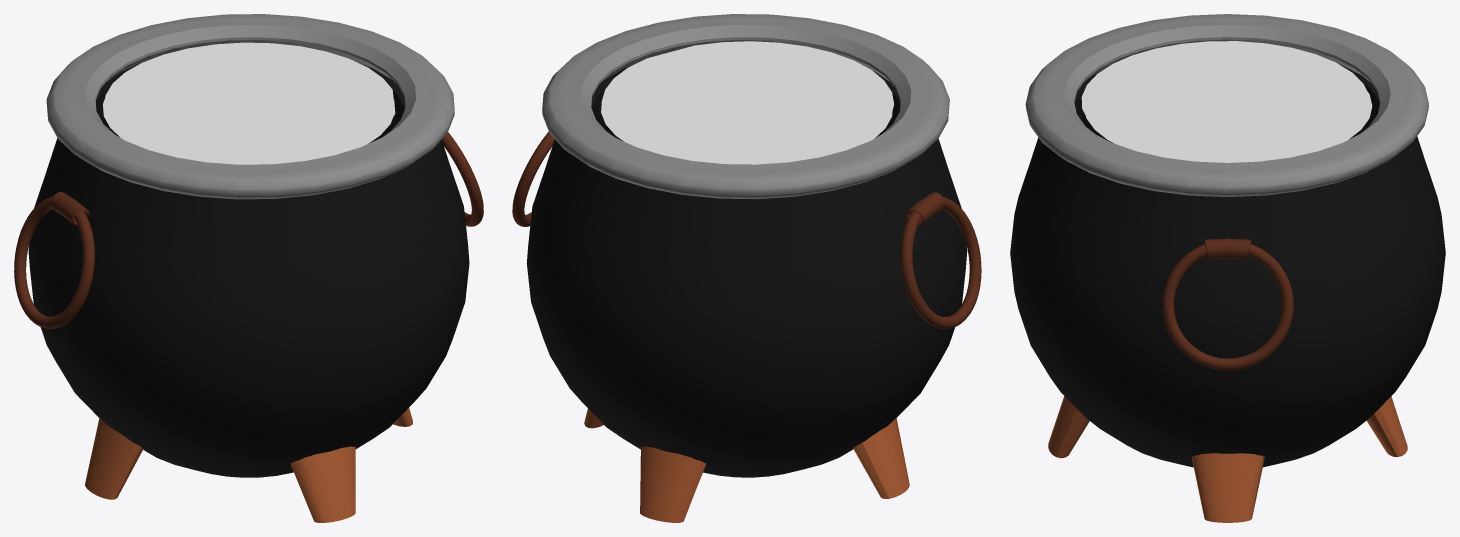
File: cauldron1.glb
3 views of the same model, side by side, from view 1: azimuth 30°, elevation 25°; view 2: azimuth 150°, elevation 25°; view 3: azimuth 270°, elevation 25° (orthographic).
Visible parts, largest first — view 1: cauldron, lip, surface.001, feet, handle; view 2: cauldron, lip, surface.001, feet, handle, surface; view 3: cauldron, lip, surface.001, feet, handle, surface.
Boxes of the visible parts, x1,y1,x2,y2 form: cauldron: (28,63,469,477); lip: (46,14,454,199); surface.001: (104,42,395,164); feet: (85,408,412,522); handle: (14,132,483,328); cauldron: (526,65,967,477); lip: (542,14,949,199); surface.001: (601,41,894,164); feet: (584,409,909,522); handle: (512,131,981,328); surface: (601,103,892,164); cauldron: (1010,64,1445,467); lip: (1025,14,1428,196); surface.001: (1081,41,1369,162); feet: (1048,396,1407,522); handle: (1162,238,1293,370); surface: (1086,91,1372,162).
Size of the model in its own units: 2.26 by 1.8 by 2.
